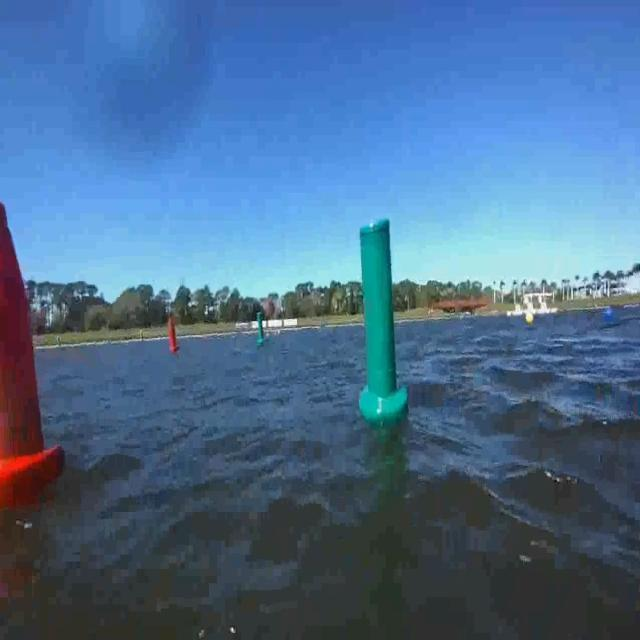blue-buoy: (603, 304, 614, 324)
green-column-buoy: (356, 219, 405, 426), (258, 314, 268, 347)
red-column-buoy: (0, 160, 65, 482), (166, 320, 178, 356)
yellow-buoy: (525, 312, 534, 327)
